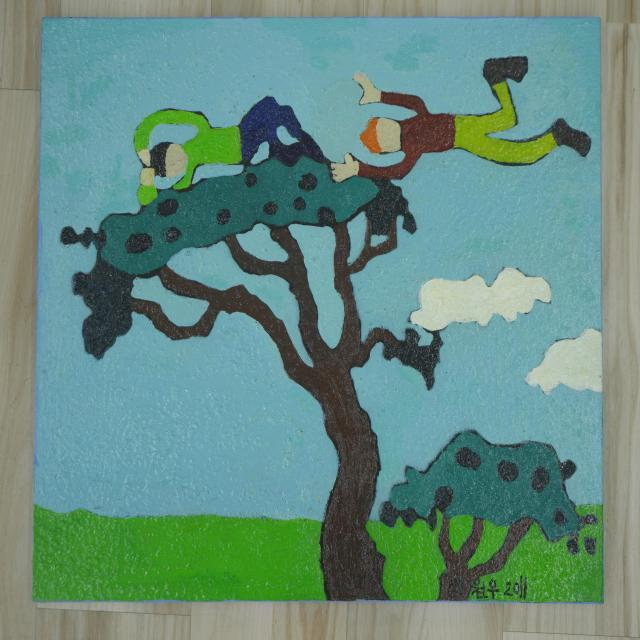painting: (34, 19, 602, 601)
